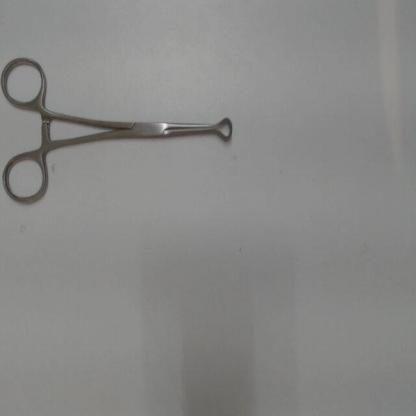Babcock Tissue Forceps: (0, 49, 239, 206)
